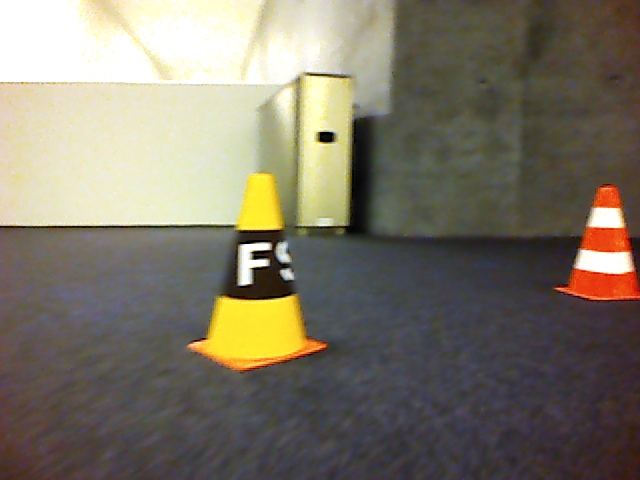yellowcone: (183, 171, 333, 375), (552, 182, 640, 303)
